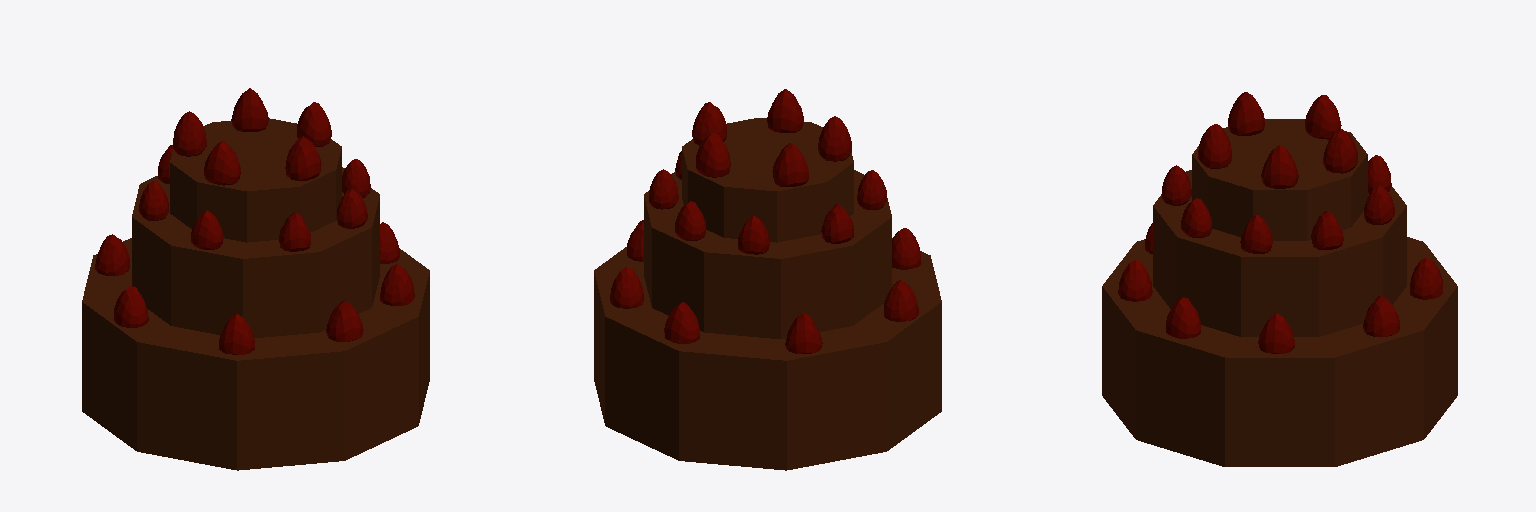
File: Cake.obj
3 views of the same model, side by side, from view 1: azimuth 30°, elevation 25°; view 2: azimuth 150°, elevation 25°; view 3: azimuth 270°, elevation 25° (orthographic).
Parts seen in each view (by area): view 1: Cake_Cube.027; view 2: Cake_Cube.027; view 3: Cake_Cube.027.
Boxes of the visible parts, <box> form: Cake_Cube.027: <box>82,88,429,470</box>; Cake_Cube.027: <box>594,89,941,470</box>; Cake_Cube.027: <box>1102,92,1457,466</box>.
Bounding box in the file's own units: 0.8699 × 0.7932 × 0.9147.